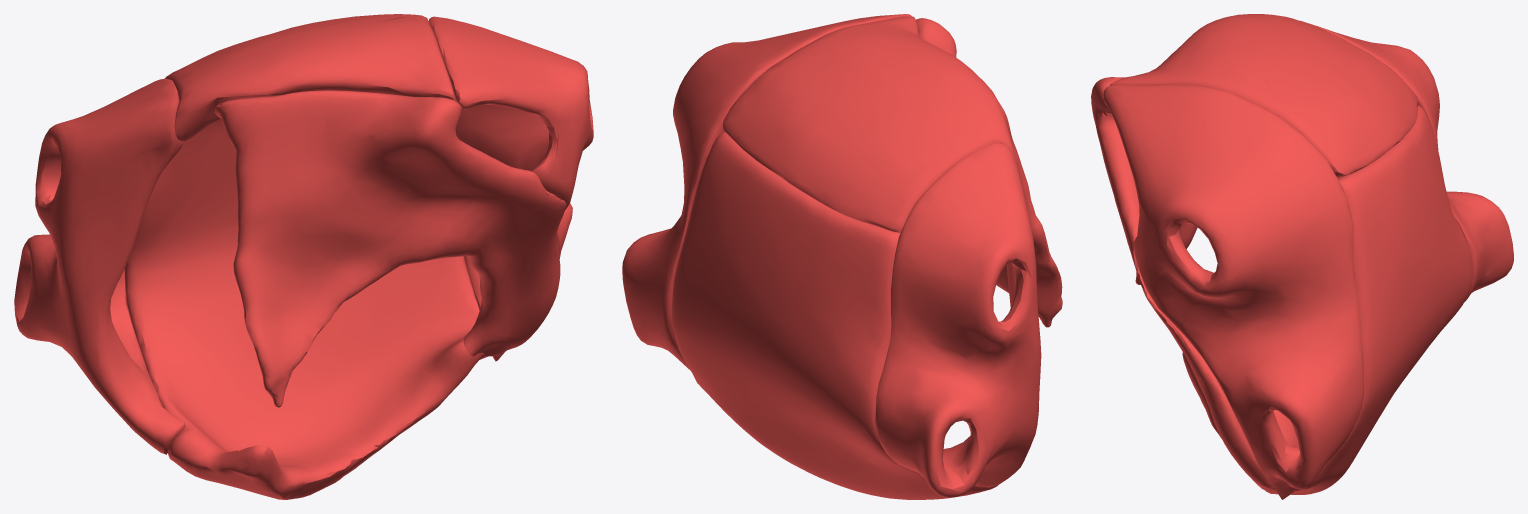
File: serambiKiri.glb
3 renders of one model, left to right at view 1: azimuth 30°, elevation 25°; view 2: azimuth 150°, elevation 25°; view 3: azimuth 270°, elevation 25°, orthographic. The views are drawn at different scales.
Visible parts, largest first — view 1: MM633_BP51882_FMA9542_Posterior wall of left atrium; view 2: MM633_BP51882_FMA9542_Posterior wall of left atrium; view 3: MM633_BP51882_FMA9542_Posterior wall of left atrium.
Part boxes in pixels (bbox=[...]): MM633_BP51882_FMA9542_Posterior wall of left atrium: bbox=[14, 14, 593, 499]; MM633_BP51882_FMA9542_Posterior wall of left atrium: bbox=[622, 14, 1062, 499]; MM633_BP51882_FMA9542_Posterior wall of left atrium: bbox=[1091, 14, 1513, 499].
Bounding box in the file's own units: 0.0676 × 0.0621 × 0.0536.
